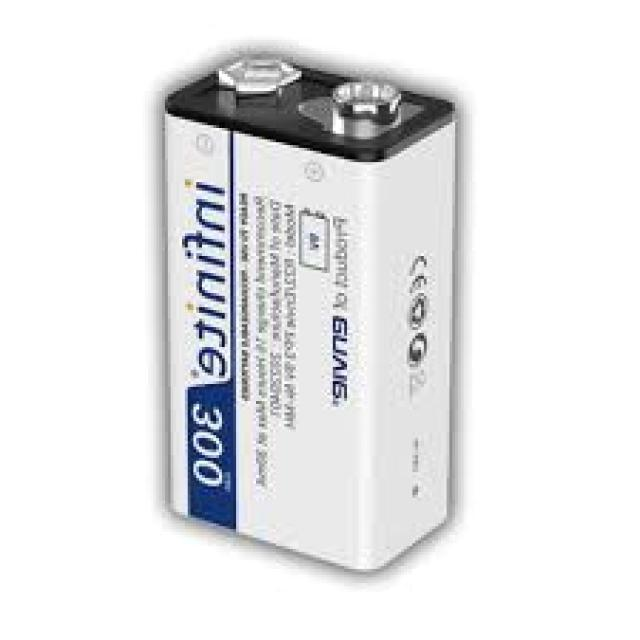battery: (164, 57, 455, 573)
